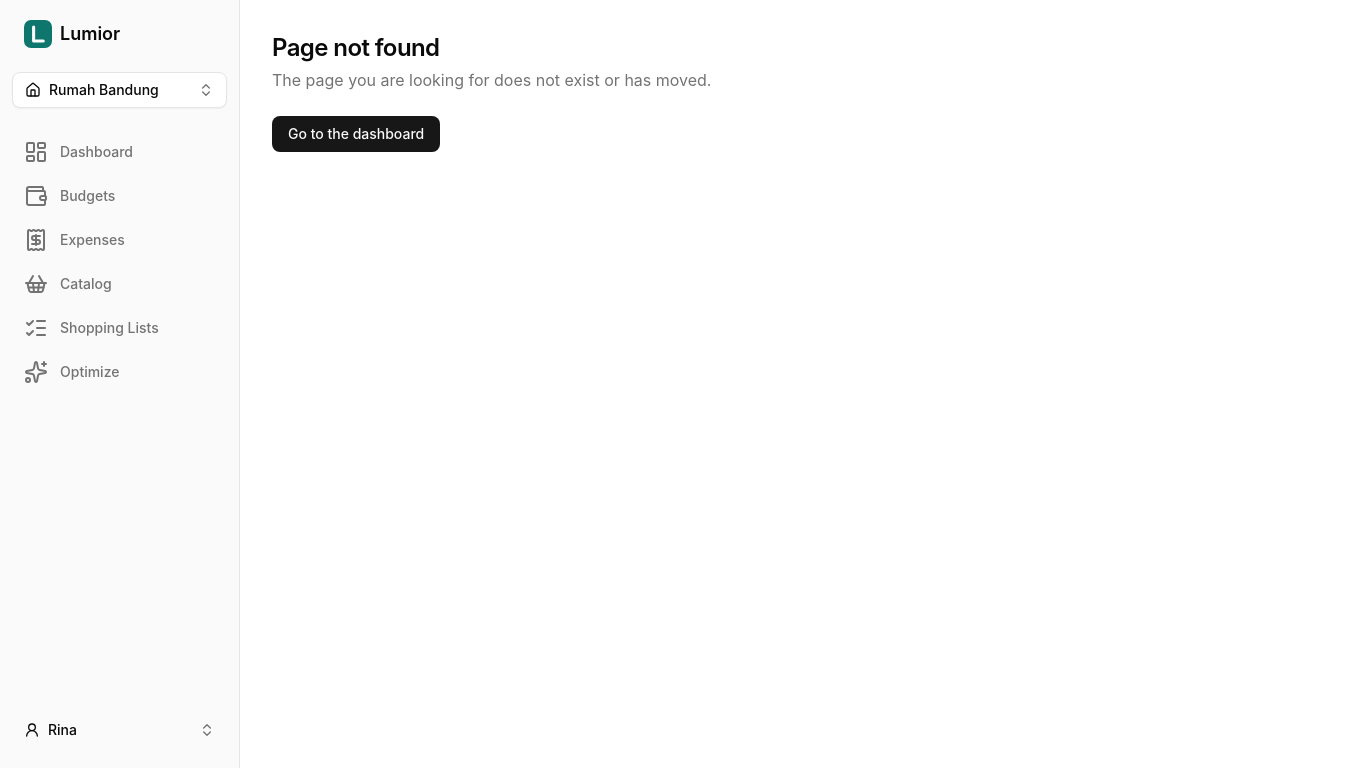
Scenario: not found › an unknown URL shows the not-found page inside the layout with a link home
Expected: the heading "Page not found" is shown, [272,33,440,62]
Expected: the navigation bar named "Main" is shown, [24,140,159,384]
Click the link "Go to the dashboard".
click(356, 134)  # box [272,116,440,152]
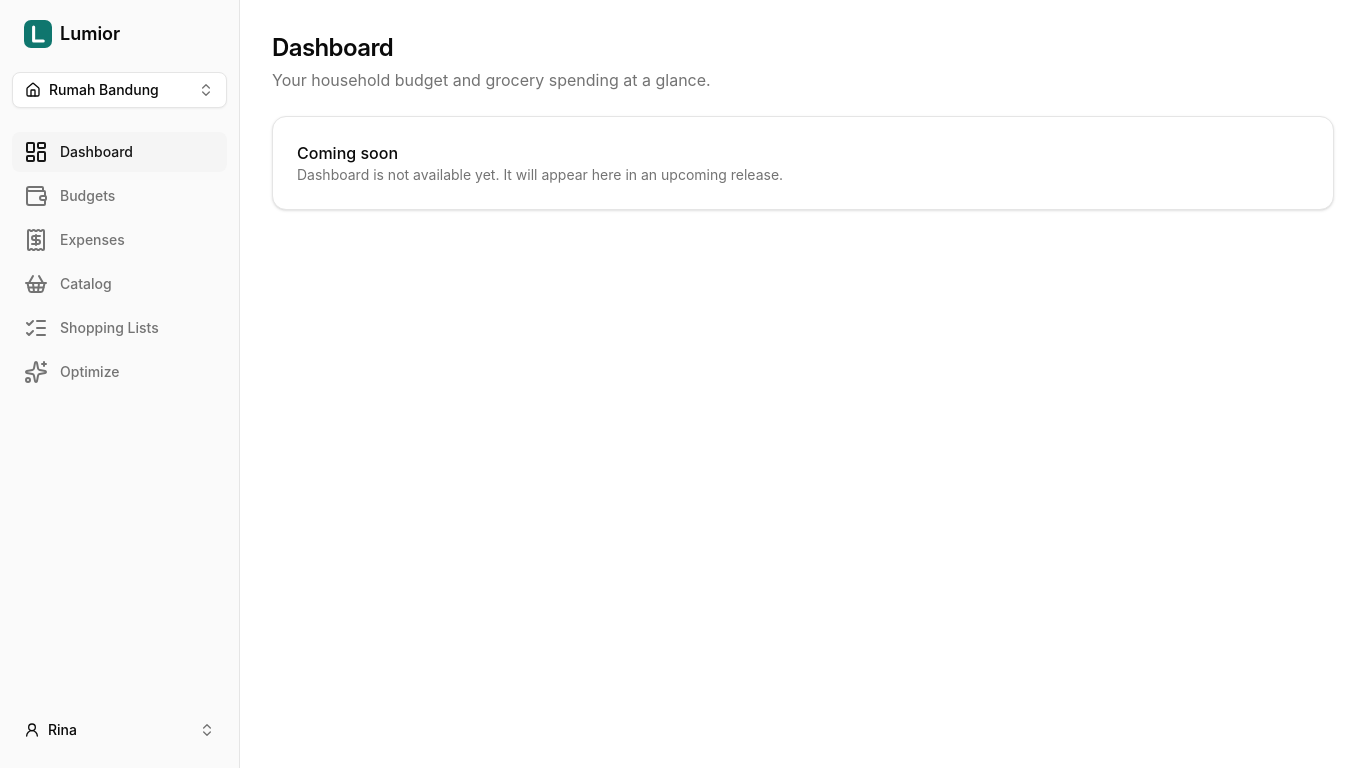
Now the heading "Dashboard" is shown, box [272,33,393,62]
